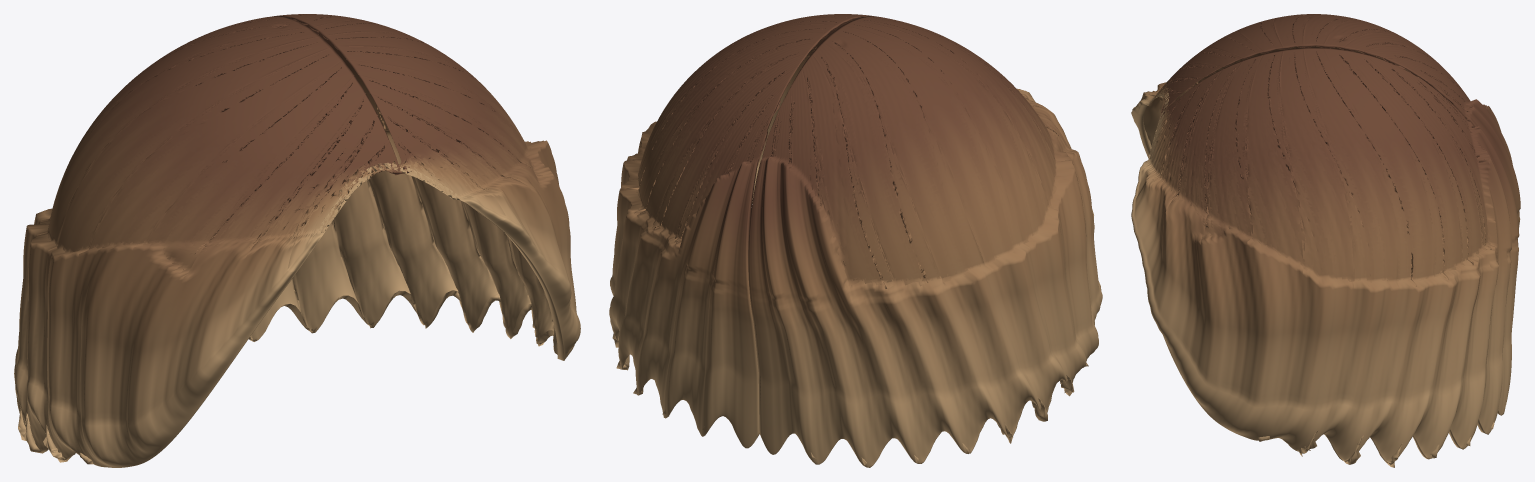
File: Ombre-690e5140026f253-hair.glb
3 views of the same model, side by side, from view 1: azimuth 30°, elevation 25°; view 2: azimuth 150°, elevation 25°; view 3: azimuth 270°, elevation 25° (orthographic). The views are drawn at different scales.
Visible parts, largest first — view 1: 226 hair / Hair252 / flowing sculpt flow.001; view 2: 226 hair / Hair252 / flowing sculpt flow.001; view 3: 226 hair / Hair252 / flowing sculpt flow.001.
Part boxes in pixels (x1,y1,x2,y2): 226 hair / Hair252 / flowing sculpt flow.001: (14,14,580,467); 226 hair / Hair252 / flowing sculpt flow.001: (609,14,1102,467); 226 hair / Hair252 / flowing sculpt flow.001: (1131,14,1520,467).
Bounding box in the file's own units: 1.11 × 0.8393 × 0.8447.
Materials: 1 (1 with a texture image).
